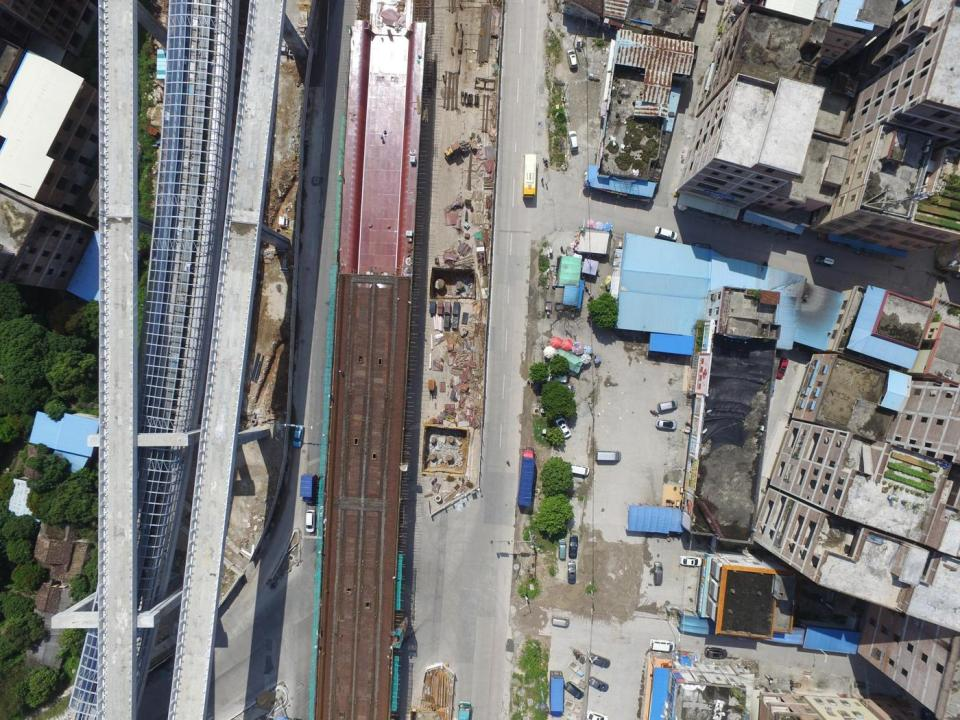bus: (522, 154, 538, 198), (458, 701, 471, 720)
car: (654, 226, 677, 242), (588, 676, 608, 693), (555, 417, 570, 438), (651, 561, 663, 586), (564, 683, 582, 699), (775, 358, 788, 380), (306, 509, 317, 534), (568, 534, 579, 558), (705, 647, 727, 659), (293, 424, 304, 448), (656, 419, 677, 431), (680, 556, 702, 567), (591, 656, 611, 668), (688, 243, 711, 253), (568, 132, 579, 152), (549, 385, 576, 393), (586, 710, 607, 720), (567, 50, 577, 70), (814, 256, 834, 266), (568, 561, 576, 585)
truck: (518, 448, 536, 510), (549, 674, 565, 717), (300, 474, 318, 504)
van: (649, 639, 674, 652), (597, 451, 621, 463), (566, 465, 589, 477), (550, 615, 568, 628), (657, 400, 678, 411), (559, 540, 566, 561)
